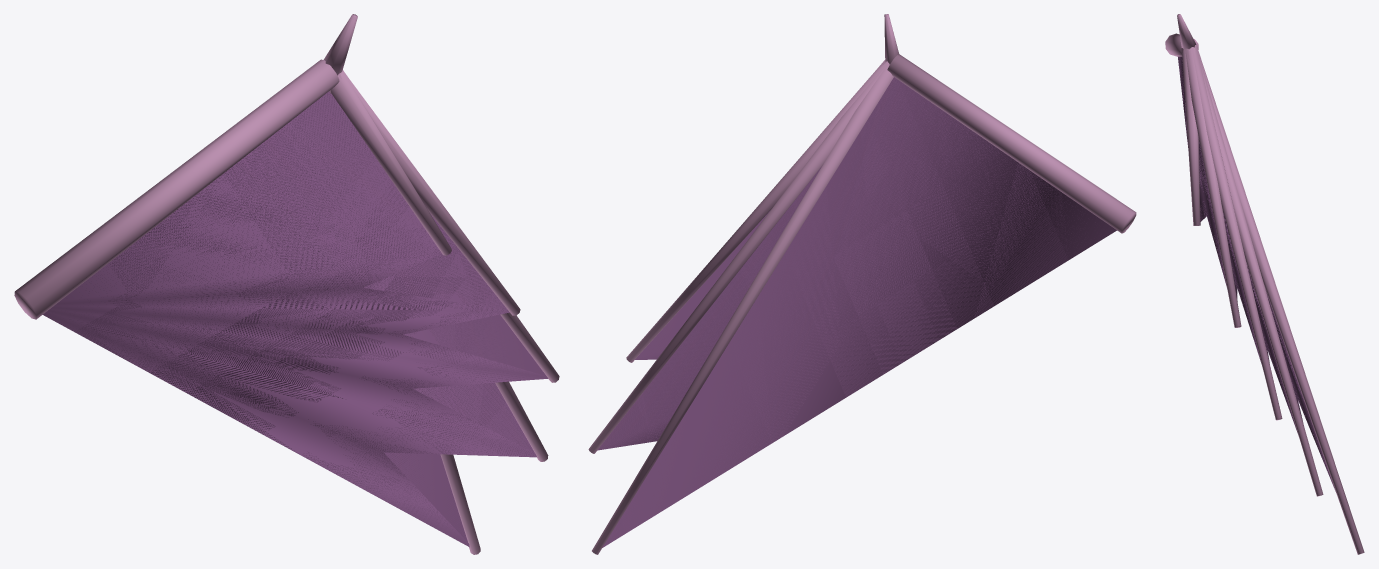
Rendered from bat_wing_r.glb.
3 views of the same model, side by side, from view 1: azimuth 30°, elevation 25°; view 2: azimuth 150°, elevation 25°; view 3: azimuth 270°, elevation 25° (orthographic). The views are drawn at different scales.
Visible parts, largest first — view 1: BatMembrane, Cone, Cone.002, Cone.003, Cone.006, Cone.005, Cone.004, Cone.001; view 2: BatMembrane, Cone, Cone.006, Cone.005, Cone.004; view 3: Cone.006, Cone.005, Cone.004, BatMembrane, Cone.003, Cone.002, Cone.001, Cone.
Part boxes in pixels (x1,y1,x2,y2): BatMembrane: [43, 91, 548, 546]; Cone: [14, 59, 339, 319]; Cone.002: [330, 71, 451, 255]; Cone.003: [338, 70, 520, 315]; Cone.006: [329, 73, 480, 554]; Cone.005: [340, 73, 548, 461]; Cone.004: [339, 70, 559, 382]; Cone.001: [323, 14, 357, 75]; BatMembrane: [597, 77, 1116, 547]; Cone: [887, 54, 1136, 233]; Cone.006: [592, 61, 893, 554]; Cone.005: [588, 60, 888, 453]; Cone.004: [626, 60, 887, 362]; Cone.006: [1183, 45, 1364, 554]; Cone.005: [1182, 45, 1323, 496]; Cone.004: [1182, 45, 1282, 420]; BatMembrane: [1178, 56, 1335, 491]; Cone.003: [1182, 45, 1241, 327]; Cone.002: [1181, 46, 1200, 225]; Cone.001: [1177, 14, 1196, 49]; Cone: [1165, 33, 1198, 56].
Bounding box in the file's own units: 1.87 × 1.97 × 0.7761.
